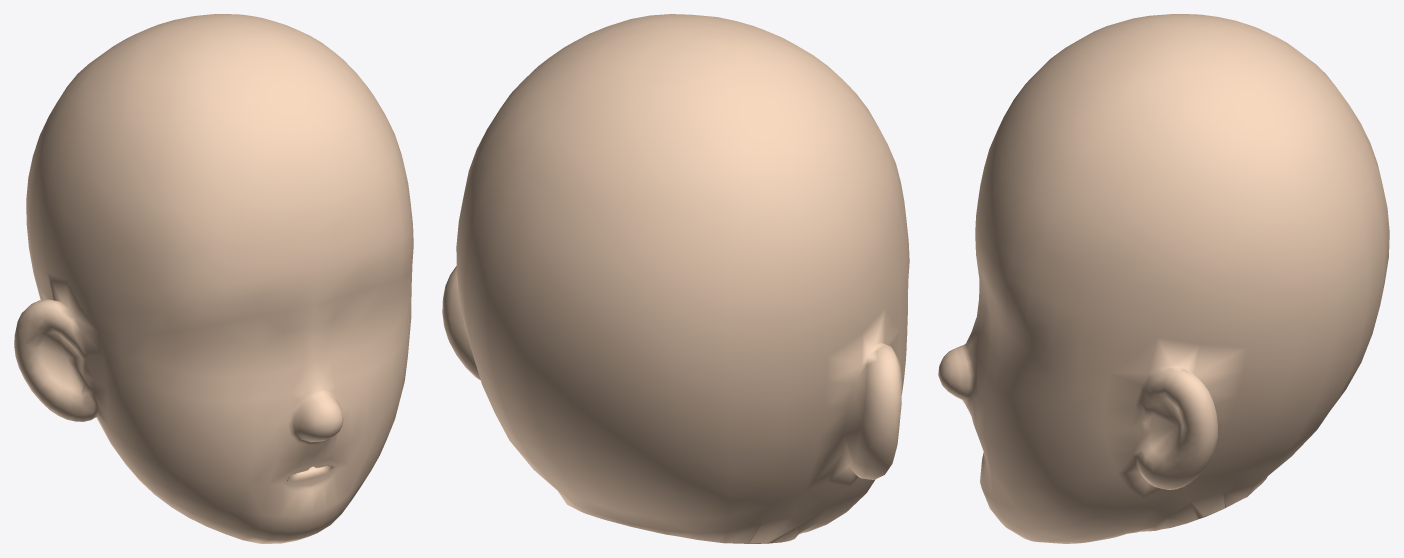
Rendered from UserHead_Clean.glb.
3 renders of one model, left to right at view 1: azimuth 30°, elevation 25°; view 2: azimuth 150°, elevation 25°; view 3: azimuth 270°, elevation 25°, orthographic. The views are drawn at different scales.
Parts seen in each view (by area): view 1: 适配头部; view 2: 适配头部; view 3: 适配头部.
Part boxes in pixels (x1=…): 适配头部: x1=14, y1=14, x2=413, y2=543; 适配头部: x1=442, y1=14, x2=909, y2=543; 适配头部: x1=938, y1=14, x2=1389, y2=543.
Size of the model in its own units: 1.3 by 1.45 by 1.21.
